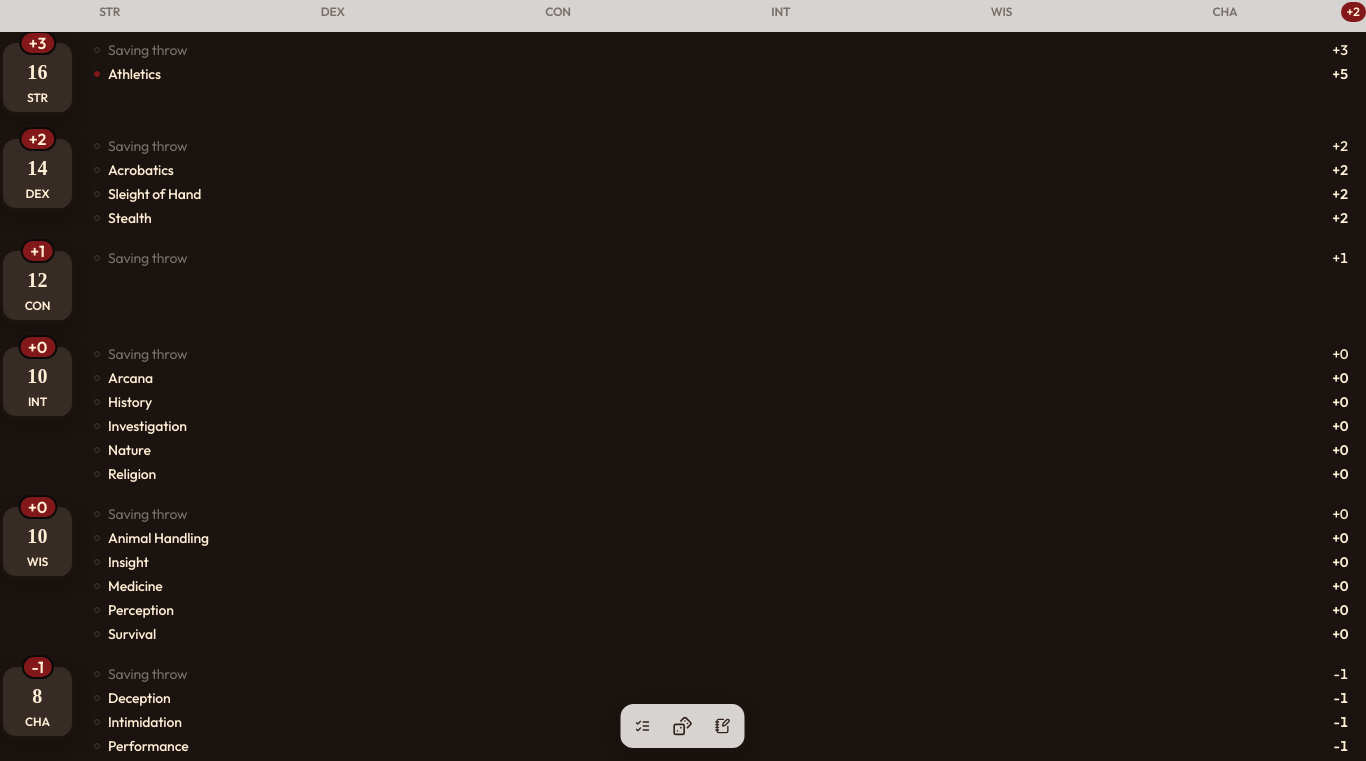
it: AbilityChecksPanel › opens an ability check from the stone
Click the button with aria-label "Roll Dexterity" at (38, 174), box top-left (0, 136), bottom-right (76, 212)
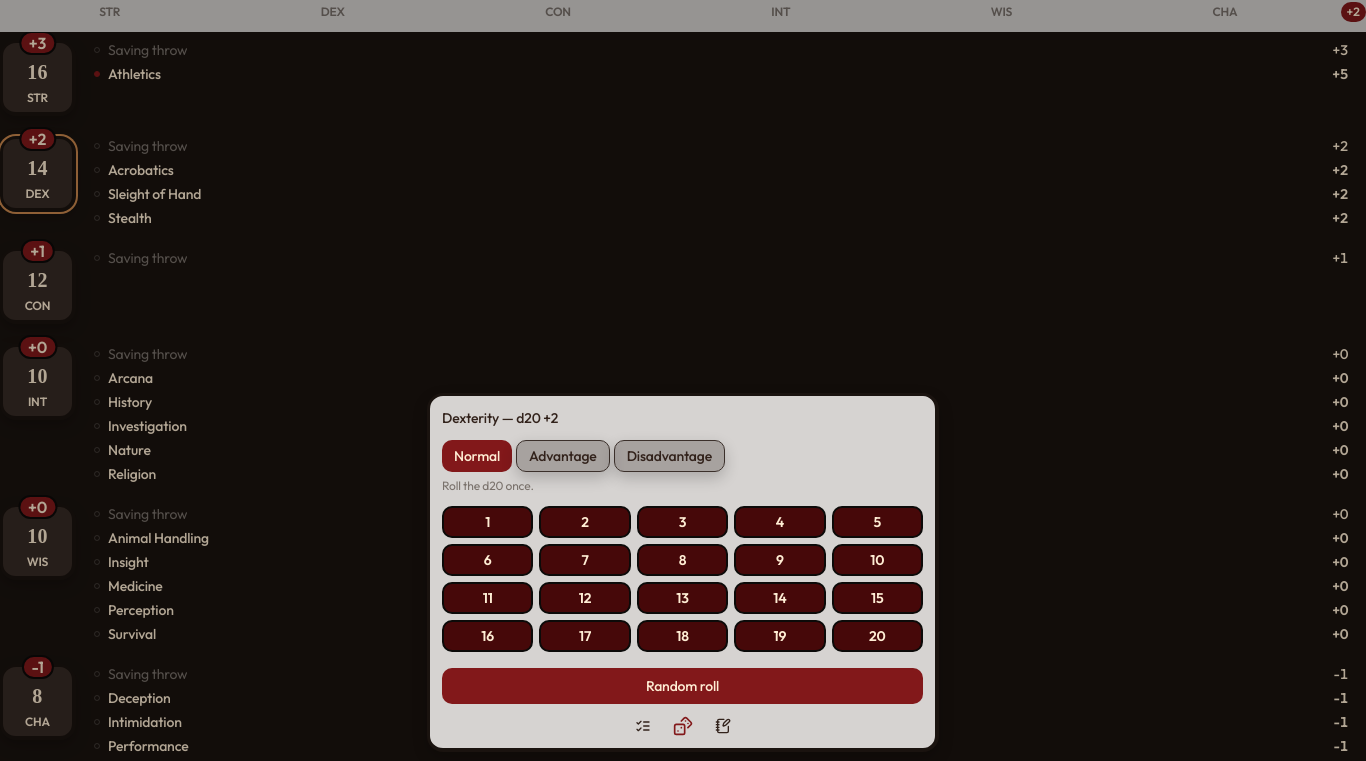
Now the text "Dexterity — d20 +2" is shown, box top-left (442, 409), bottom-right (558, 427)
